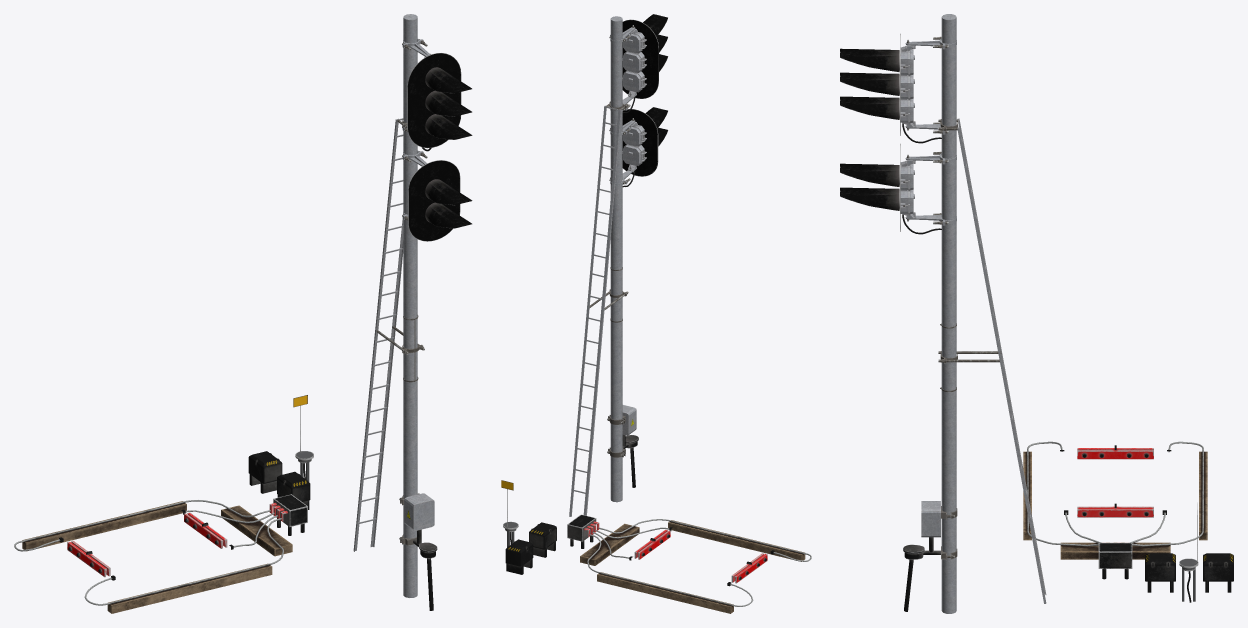
File: RM_sig_P_MM2_YGR+YW_3+2_rout.gltf
3 renders of one model, left to right at view 1: azimuth 30°, elevation 25°; view 2: azimuth 150°, elevation 25°; view 3: azimuth 270°, elevation 25°, orthographic. The views are drawn at different scales.
Parts seen in each view (by area): view 1: Светофор 3+2, Изостык; view 2: Светофор 3+2, Изостык; view 3: Светофор 3+2, Изостык.
Part boxes in pixels (x1=…): Светофор 3+2: x1=353, y1=14, x2=472, y2=610; Изостык: x1=14, y1=395, x2=313, y2=613; Светофор 3+2: x1=569, y1=14, x2=668, y2=516; Изостык: x1=501, y1=480, x2=811, y2=613; Светофор 3+2: x1=840, y1=14, x2=1046, y2=613; Изостык: x1=1023, y1=441, x2=1233, y2=602.
Size of the model in its own units: 4.17 by 7.57 by 4.55.
Materials: 3 (2 with a texture image).
